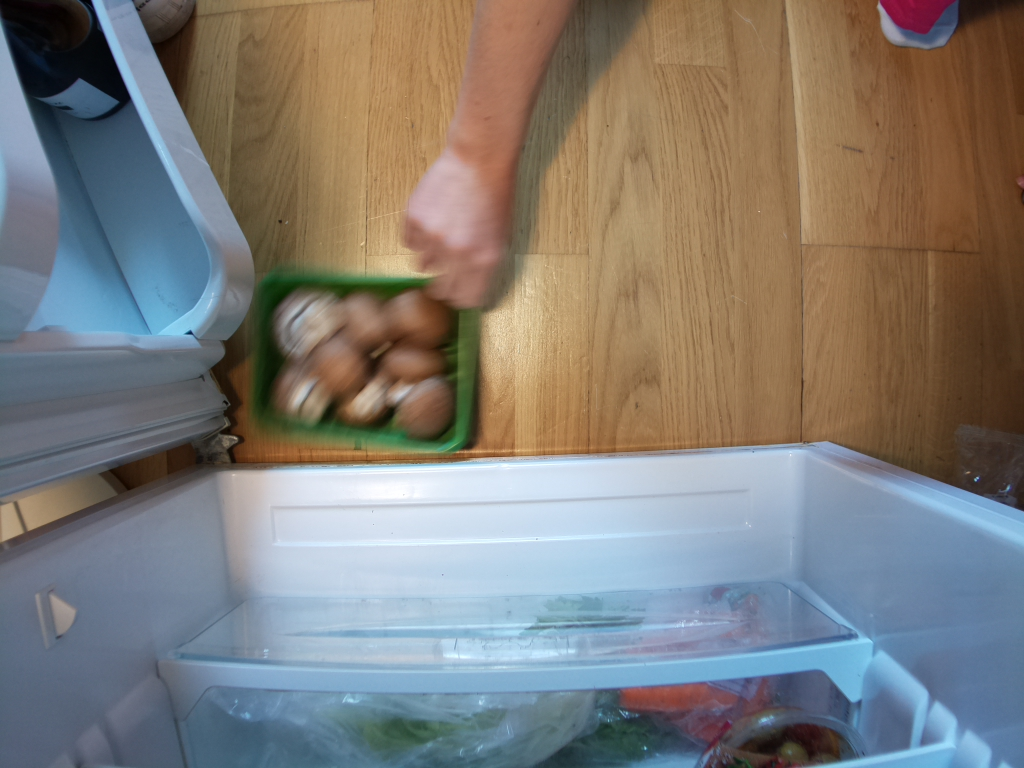mushrooms: (245, 272, 478, 451)
